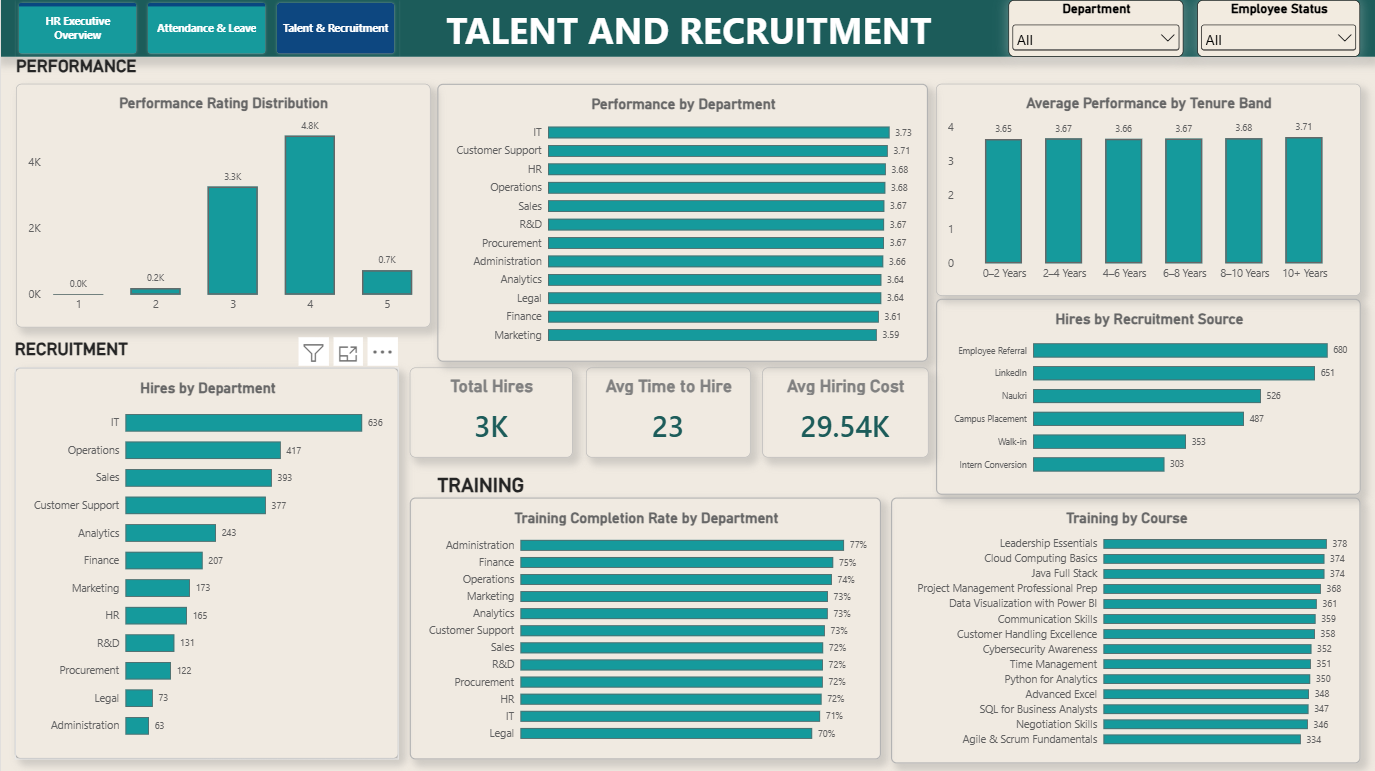

The dashboard page shown, as its layout file describes it:
{"tool":"powerbi","page":{"name":"Talent & Recruitment","canvas":[1920,1080],"ordinal":2},"visuals":[{"type":"clusteredColumnChart","title":"Performance Rating Distribution","fields":{"Y":["CountNonNull(performance_reviews.Employee_Id)"],"Category":["performance_reviews.Performance_Rating"]},"box":[20.9,116.9,578.1,340.2],"z":0},{"type":"clusteredBarChart","title":"Performance by Department","fields":{"Category":["departments.Department_Name"],"Y":["performance_reviews.Average Performance Score"]},"box":[609.4,116.9,684.5,388.2],"z":1000},{"type":"clusteredColumnChart","title":"Average Performance by Tenure Band","fields":{"Y":["performance_reviews.Average Performance Score"],"Category":["Employee_Clean.Tenure Band"]},"box":[1304.3,116.9,592.7,296.3],"z":2000},{"type":"clusteredBarChart","title":"Hires by Recruitment Source","fields":{"Y":["CountNonNull(recruitment.Employee_Id)"],"Category":["recruitment.Recruitment_Source"]},"box":[1304.3,417.4,592.7,273.4],"z":3000},{"type":"clusteredBarChart","title":"Hires by Department","fields":{"Y":["CountNonNull(recruitment.Employee_Id)"],"Category":["departments.Department_Name"]},"box":[18.8,513.4,536.3,546.8],"z":4000},{"type":"cardVisual","title":"Avg Hiring Cost","fields":{"Data":["recruitment.Average Hiring Cost"]},"box":[1062.3,513.4,231.7,125.2],"z":5000},{"type":"cardVisual","title":"Total Hires","fields":{"Data":["recruitment.Total Hires"]},"box":[569.7,513.4,227.5,125.2],"z":6000},{"type":"cardVisual","title":"Avg Time to Hire","fields":{"Data":["recruitment.Average Time To Hire"]},"box":[816,513.4,229.6,125.2],"z":7000},{"type":"clusteredBarChart","title":"Training Completion Rate by Department","fields":{"Category":["departments.Department_Name"],"Y":["training_programs.Training Completion Rate"]},"box":[569.7,695,657.4,365.2],"z":8000},{"type":"clusteredBarChart","title":"Training by Course","fields":{"Category":["training_programs.Course_Name"],"Y":["CountNonNull(training_programs.Employee_Id)"]},"box":[1241.7,695,655.3,371.5],"z":9000},{"type":"shape","box":[0,0,1920,79.3],"z":10000},{"type":"textbox","title":"PERFORMANCE","box":[20.9,79.3,196.2,37.6],"z":11000},{"type":"textbox","title":"TRAINING","box":[609.4,661.6,244.2,39.7],"z":12000},{"type":"textbox","title":"RECRUITMENT","box":[20,472.8,163.2,30.8],"z":13000},{"type":"slicer","title":"Department","fields":{"Values":["departments.Department_Name"]},"box":[1406.6,0,244.2,79.3],"z":14000},{"type":"slicer","title":"Employee Status","fields":{"Values":["Employee_Clean.Employee_Status"]},"box":[1669.6,0,227.5,79.3],"z":15000},{"type":"pageNavigator","box":[20.9,0,534.3,79.3],"z":17000}]}

Visuals, with their boxes in screenshot pixels (x1, y1, x2, y2), scaled from the page's 1920x1080 canvas onto the 1375x771 screenshot:
"Performance Rating Distribution" clusteredColumnChart: 15,83,429,326
"Performance by Department" clusteredBarChart: 436,83,927,361
"Average Performance by Tenure Band" clusteredColumnChart: 934,83,1359,295
"Hires by Recruitment Source" clusteredBarChart: 934,298,1359,493
"Hires by Department" clusteredBarChart: 13,367,398,757
"Avg Hiring Cost" cardVisual: 761,367,927,456
"Total Hires" cardVisual: 408,367,571,456
"Avg Time to Hire" cardVisual: 584,367,749,456
"Training Completion Rate by Department" clusteredBarChart: 408,496,879,757
"Training by Course" clusteredBarChart: 889,496,1359,761
shape: 0,0,1374,57
"PERFORMANCE" textbox: 15,57,155,83
"TRAINING" textbox: 436,472,611,501
"RECRUITMENT" textbox: 14,338,131,360
"Department" slicer: 1007,0,1182,57
"Employee Status" slicer: 1196,0,1359,57
pageNavigator: 15,0,398,57
